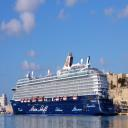cruises: (10, 52, 120, 119)
